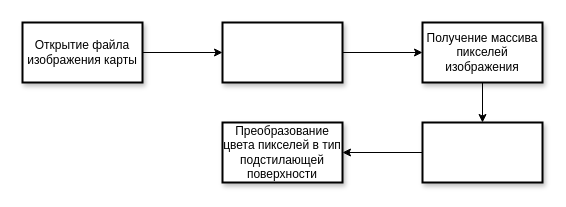
Image size: 566x207. Some labels were removed from this diagram. Here are the shapes that lost their labels. From the top down, the centre of each, then its label:
At [283,53]: "Форматирование изображения под размер расчетной сетки".
At [483,153]: "Сопоставление пикселей и узлов расчетной сетки".
